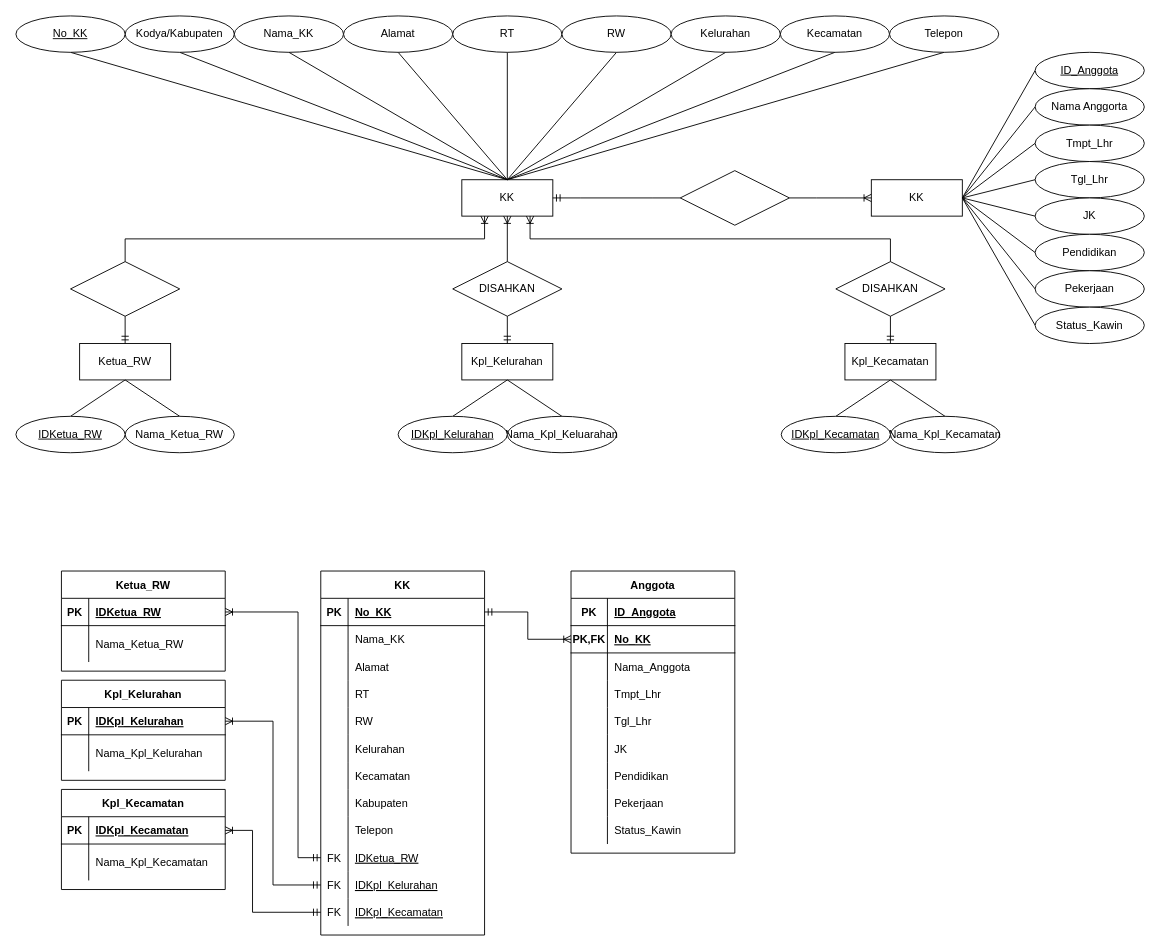
This 1160x951 diagram has some shape labels left out. Here are the shapes that lost their labels. From the top down, the centre of each, then its label:
At (x=734, y=197): "MEMILIKI".
At (x=125, y=288): "DISAHAKAN".
